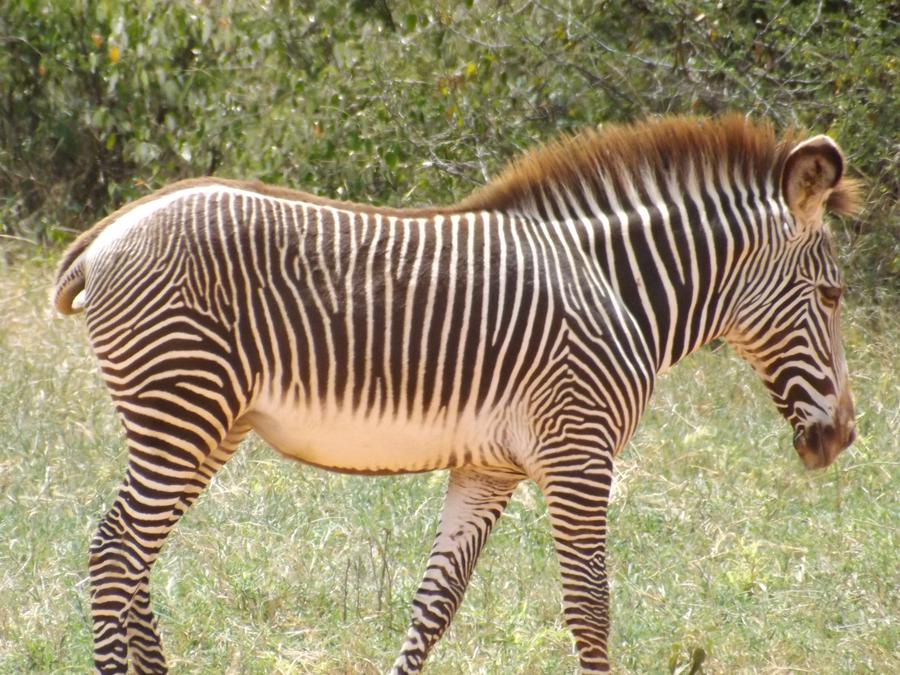zebra_grevys: (90, 161, 625, 467)
